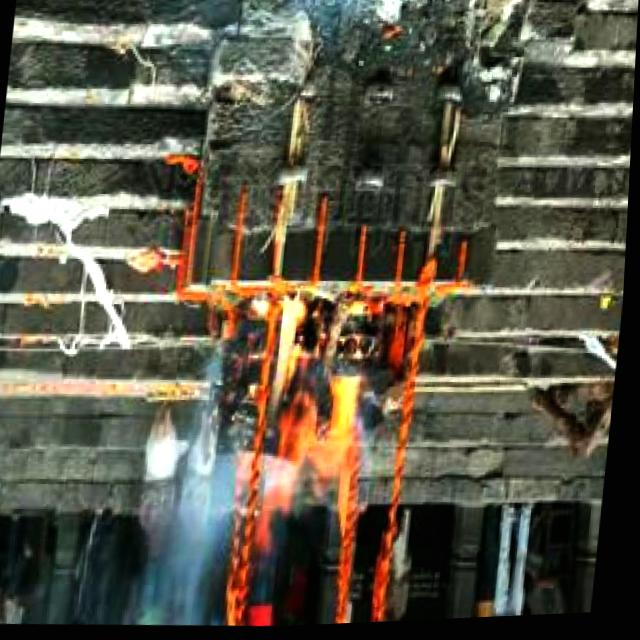helmet: (262, 290, 380, 515)
